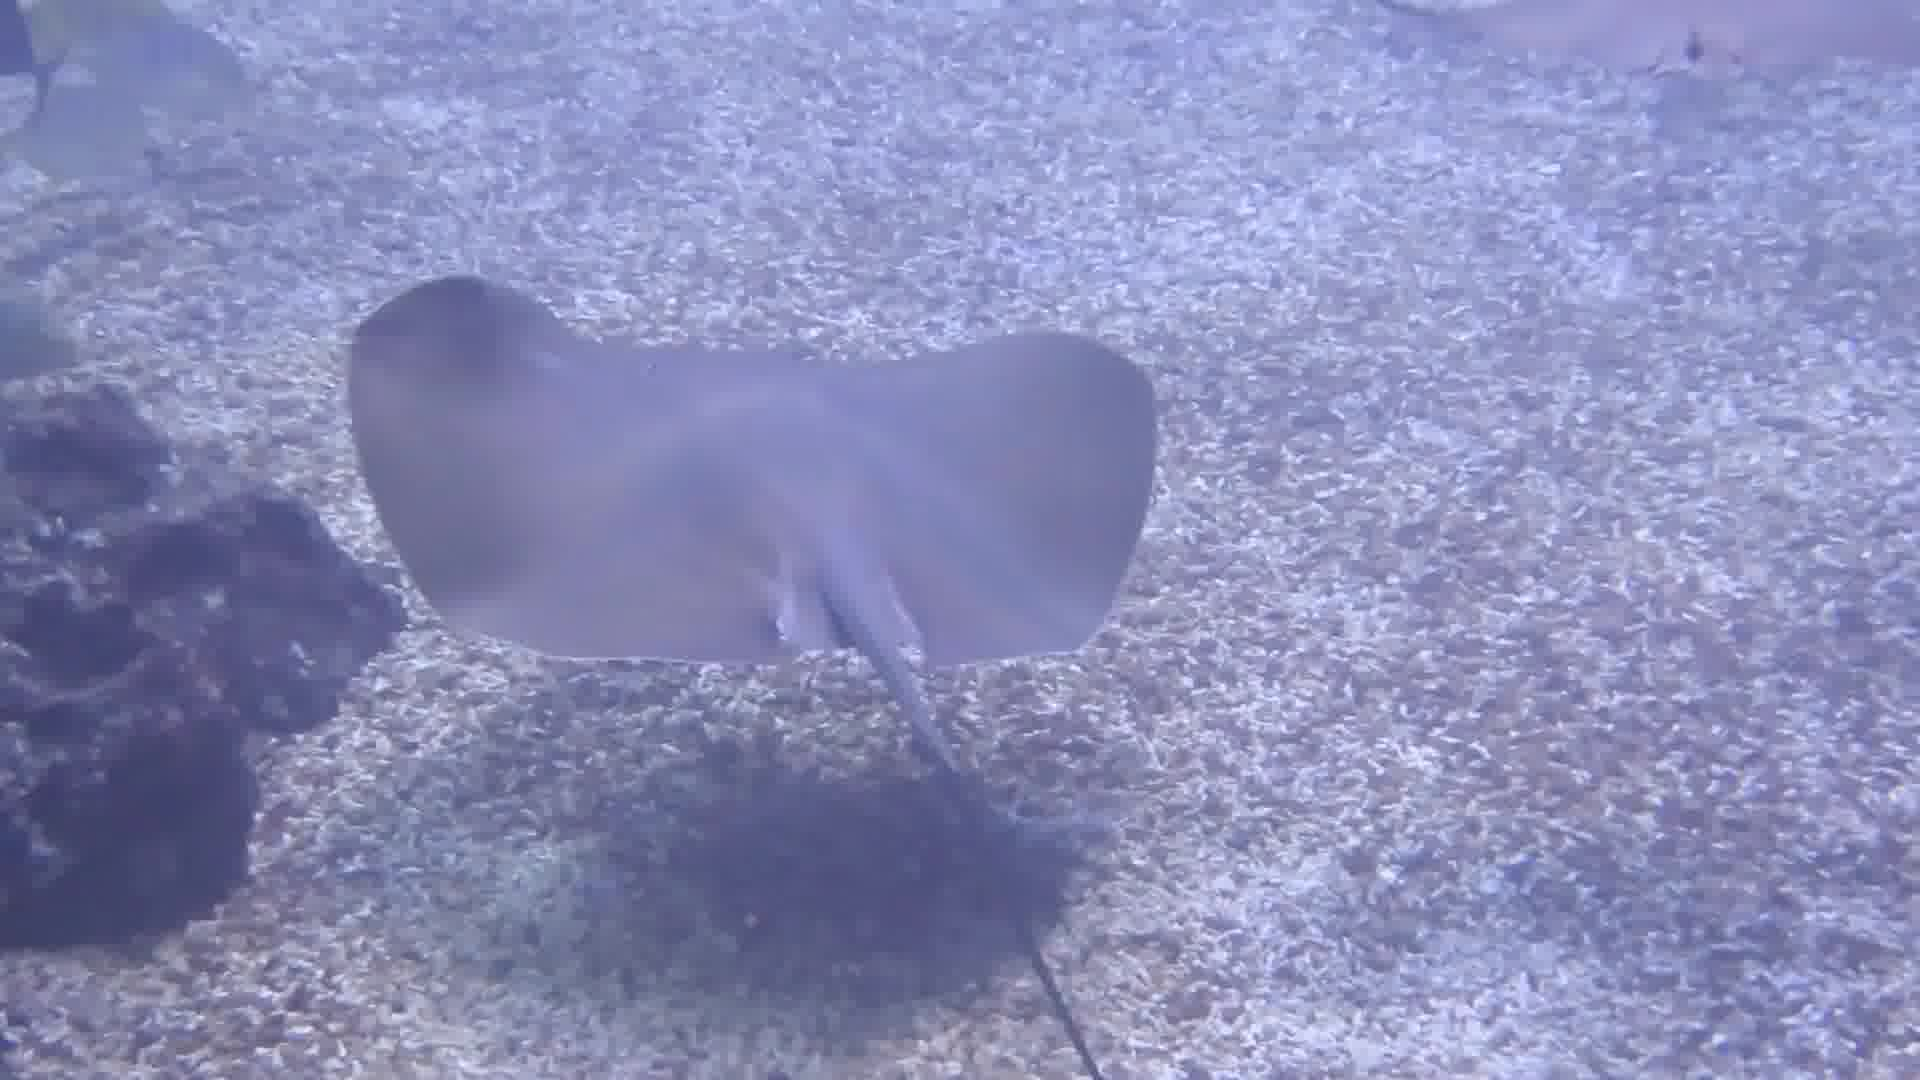Dasyatis akajei: (269, 142, 1230, 1080)
